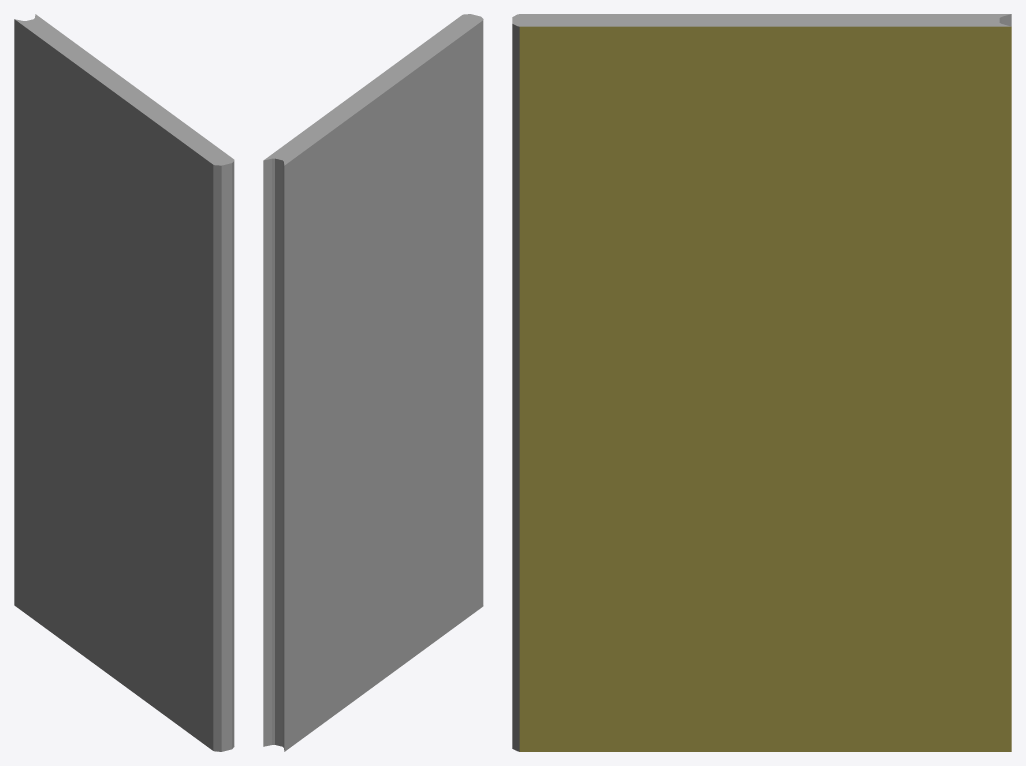
File: NEWSPAPER.fbx
3 renders of one model, left to right at view 1: azimuth 30°, elevation 25°; view 2: azimuth 150°, elevation 25°; view 3: azimuth 270°, elevation 25°, orthographic. The views are drawn at different scales.
Visible parts, largest first — view 1: pCube13; view 2: pCube13; view 3: pCube13.
Part boxes in pixels (left/top/right/bottom): pCube13: left=14, top=14, right=234, bottom=751; pCube13: left=263, top=14, right=483, bottom=751; pCube13: left=512, top=14, right=1011, bottom=751.
Size of the model in its own units: 0.0686 by 1.82 by 1.14.
